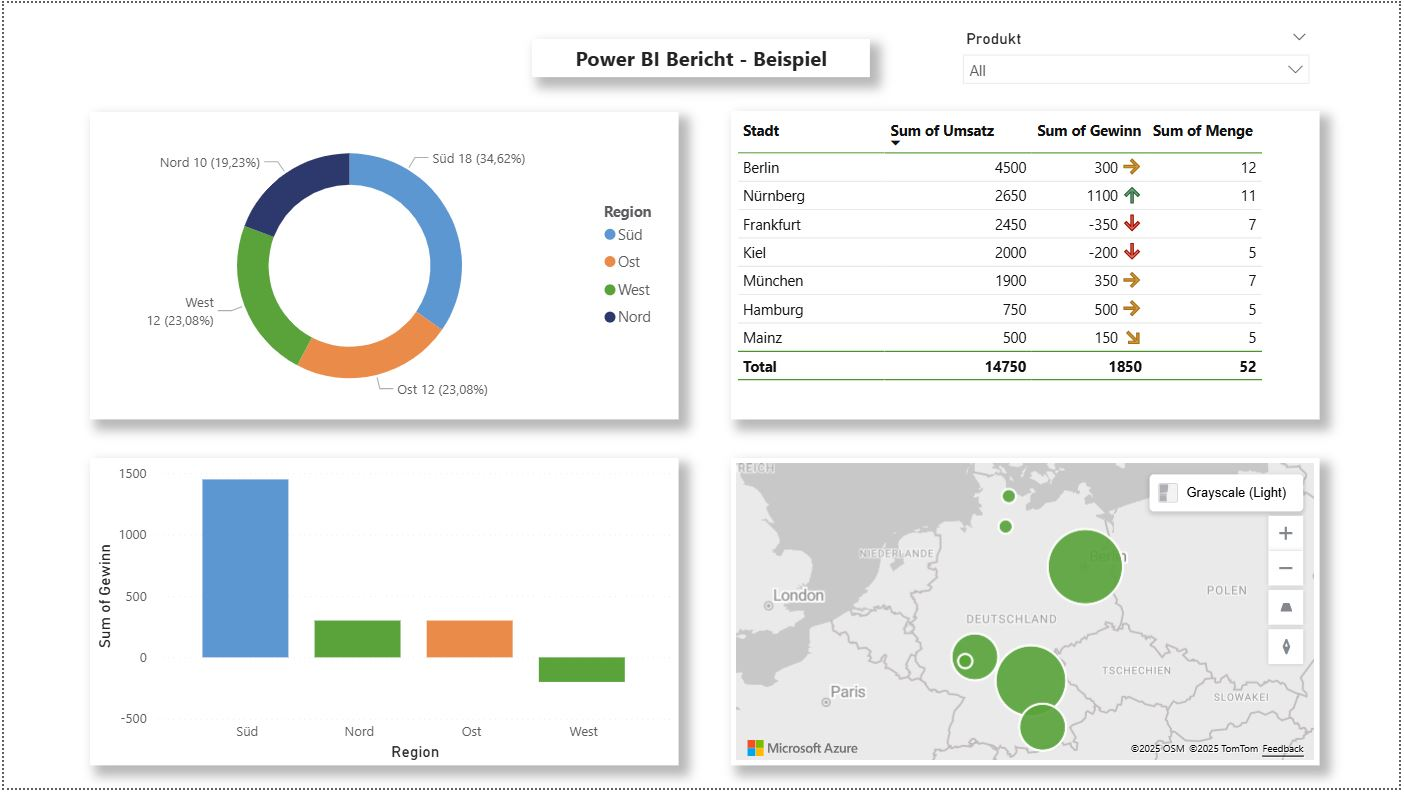

The page's visual inventory and layout, read from the dashboard file:
{"tool":"powerbi","page":{"name":"Page 1","canvas":[1280,720],"ordinal":0},"visuals":[{"type":"donutChart","fields":{"Category":["EasyTabelle.Region"],"Y":["Sum(EasyTabelle.Menge)"]},"box":[78.6,99.8,540.2,282.2],"z":0},{"type":"clusteredColumnChart","fields":{"Y":["Sum(EasyTabelle.Gewinn)"],"Category":["EasyTabelle.Region"]},"box":[78.6,417.3,540.2,282.2],"z":1000},{"type":"tableEx","fields":{"Values":["EasyTabelle.Stadt","Sum(EasyTabelle.Umsatz)","Sum(EasyTabelle.Gewinn)","Sum(EasyTabelle.Menge)"]},"box":[667.2,98.8,540.2,283.2],"z":2000},{"type":"azureMap","fields":{"Size":["Sum(EasyTabelle.Menge)"],"Category":["EasyTabelle.Stadt"]},"box":[667.2,417.3,540.2,282.2],"z":3000},{"type":"textbox","box":[484.8,33.3,310.4,35.3],"z":4000},{"type":"slicer","fields":{"Values":["EasyTabelle.Produkt"]},"box":[869.8,19.1,337.6,60.5],"z":4001}]}

Visuals, with their boxes in screenshot pixels (x1, y1, x2, y2), scaled from the page's 1280x720 canvas onto the 1404x795 screenshot:
donutChart - EasyTabelle.Region x Sum(EasyTabelle.Menge): rect(86, 110, 679, 422)
clusteredColumnChart - Sum(EasyTabelle.Gewinn) x EasyTabelle.Region: rect(86, 461, 679, 772)
tableEx - EasyTabelle.Stadt x Sum(EasyTabelle.Umsatz): rect(732, 109, 1324, 422)
azureMap - Sum(EasyTabelle.Menge) x EasyTabelle.Stadt: rect(732, 461, 1324, 772)
textbox: rect(532, 37, 872, 76)
slicer - EasyTabelle.Produkt: rect(954, 21, 1324, 88)
